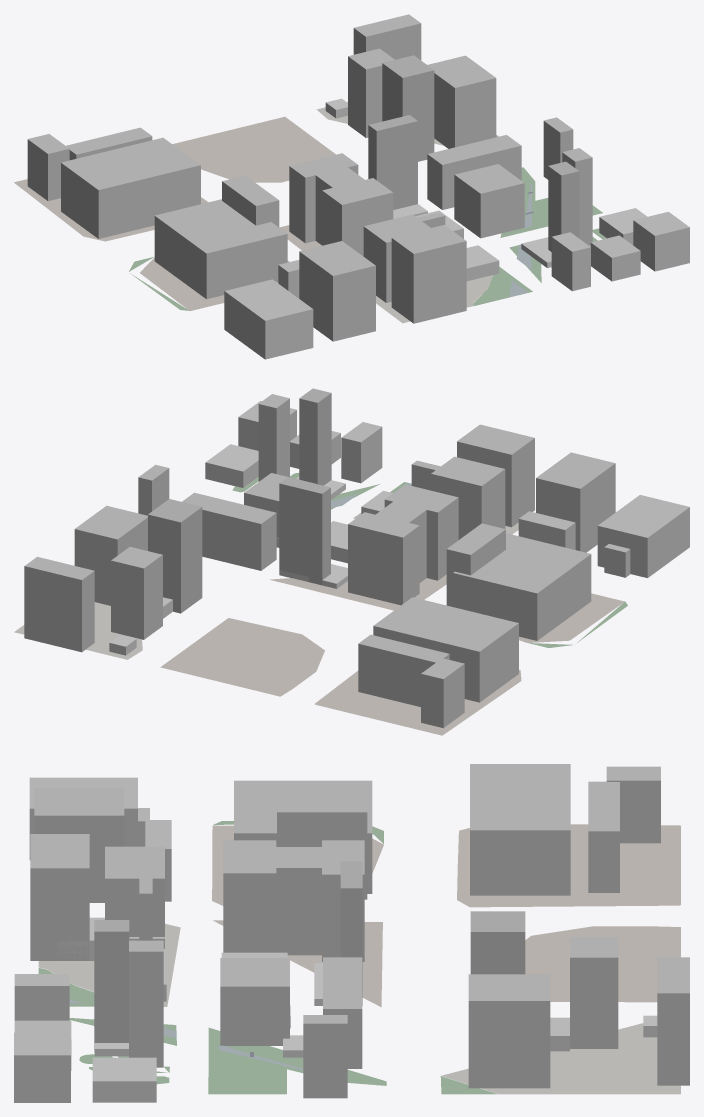
Rendered from 118_77_mid.glb.
3 views of the same model, one above another, from view 1: azimuth 30°, elevation 25°; view 2: azimuth 150°, elevation 25°; view 3: azimuth 270°, elevation 25° (orthographic). The views are drawn at different scales.
Size of the model in its own units: 516 by 102 by 526.
